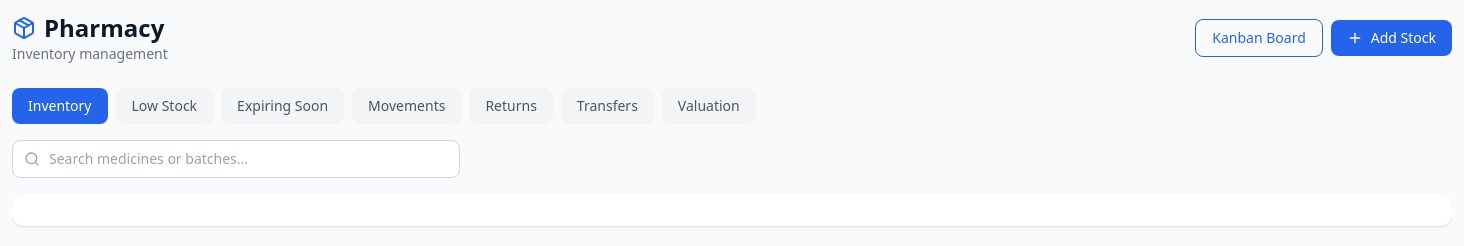
it: PharmacyPage (inventory dashboard — full surface) › Transfers tab — renders 'No transfers.' when empty and swallows rejection
The width and height of the screenshot is (1464, 246).
Click the button "Transfers": (607, 106) [561,88,654,124]
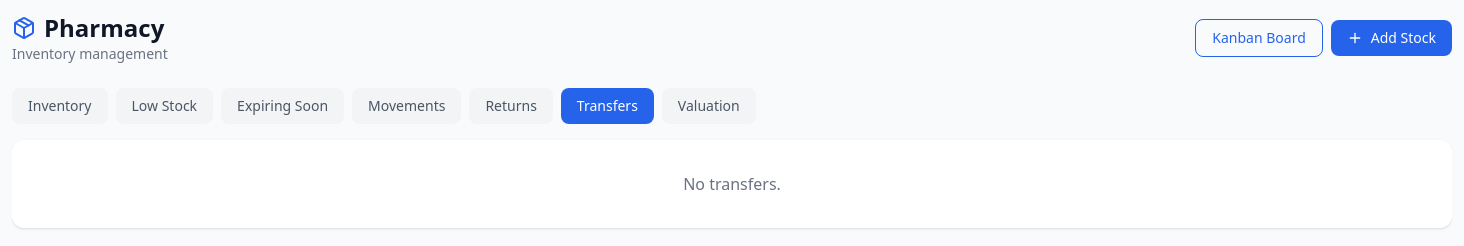
Check: the text "No transfers." is shown, box [683,173,781,195]
